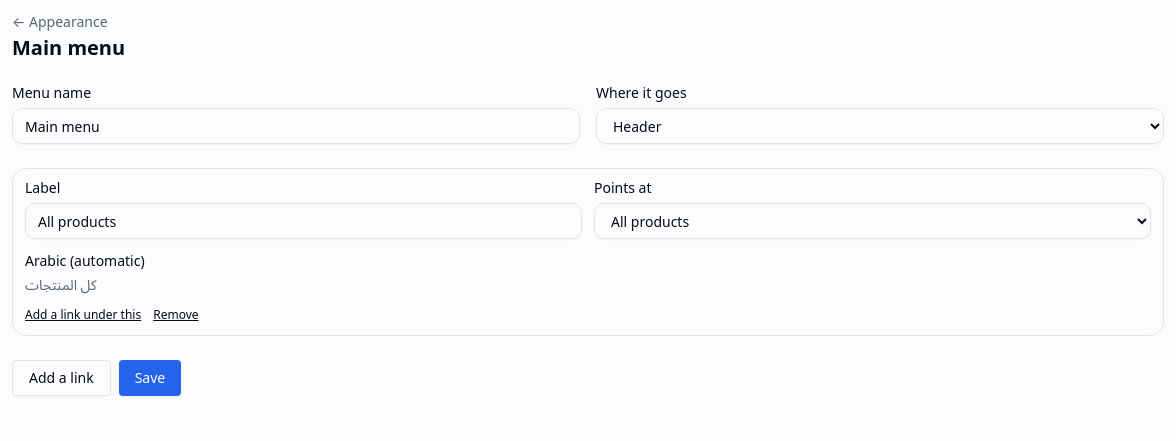
the menu editor › shows the server’s complaint next to the field it is about
This screenshot has width=1176, height=441.
Expected: the heading "Main menu" is shown, [12,34,125,61]
Click the button "Save" at {"x": 150, "y": 378}, box [119,360,181,396]
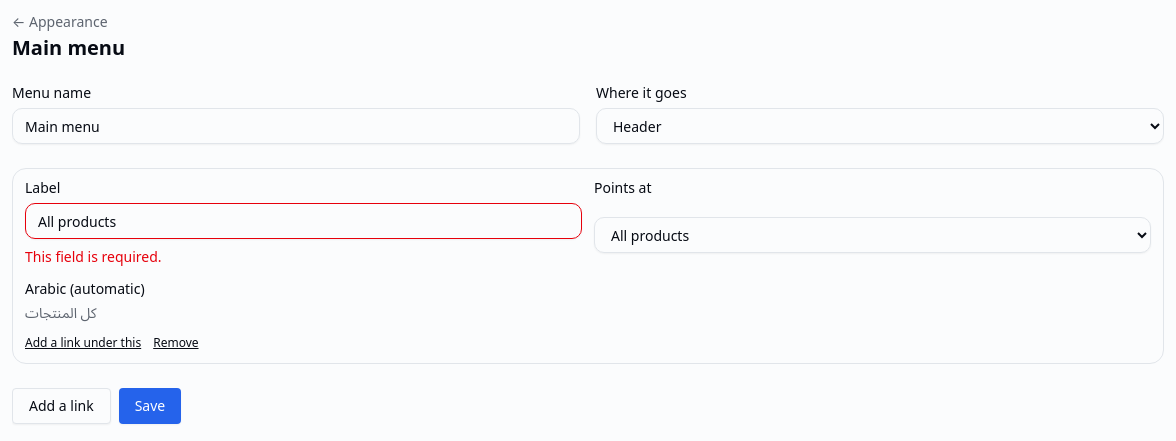
Now the message "This field is required." is shown, box [25,247,162,266]
